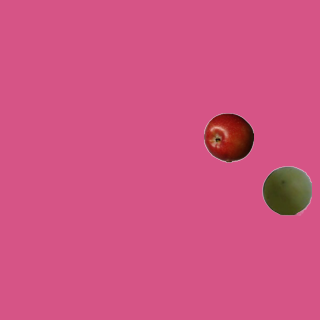Apple Braeburn: (203, 112, 253, 162)
Grape White 4: (261, 165, 311, 215)
